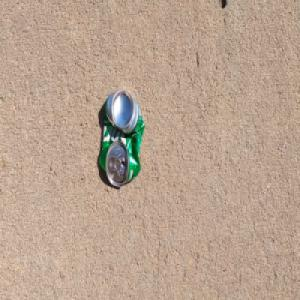SodaCan: (98, 88, 145, 188)
